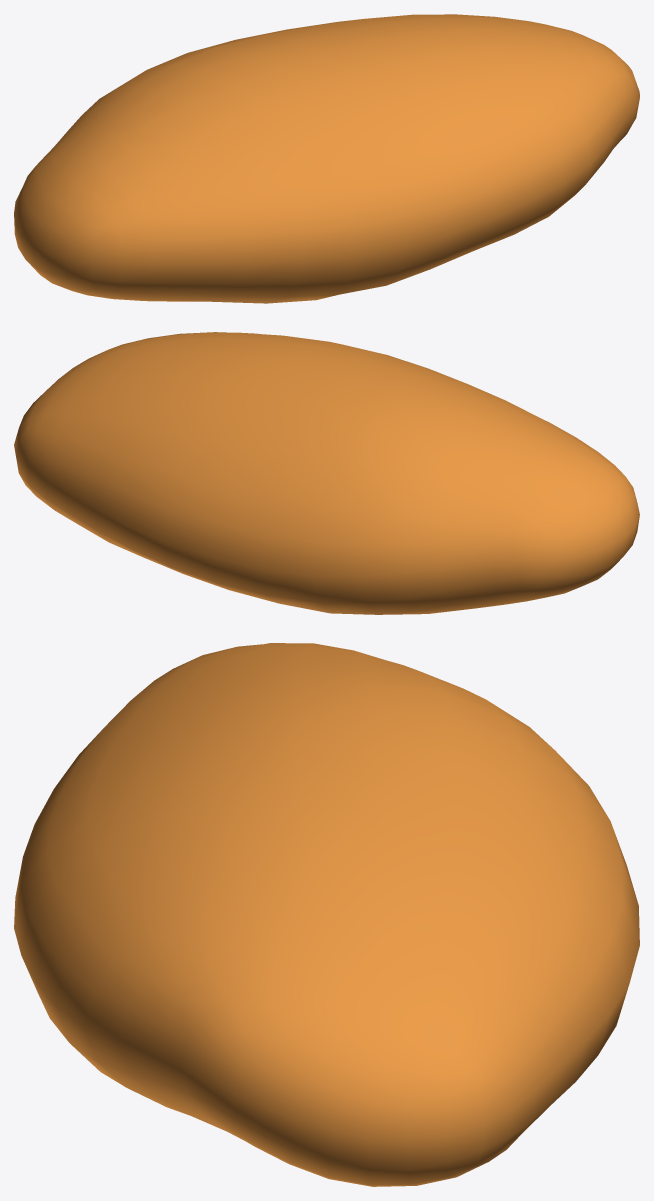
Rendered from omulet.fbx.
3 renders of one model, top to bottom at view 1: azimuth 30°, elevation 25°; view 2: azimuth 150°, elevation 25°; view 3: azimuth 270°, elevation 25°, orthographic. The views are drawn at different scales.
Parts seen in each view (by area): view 1: egg; view 2: egg; view 3: egg.
Boxes of the visible parts, x1,y1,x2,y2 form: egg: (14,14,639,303); egg: (14,332,639,614); egg: (14,643,639,1186).
Bounding box in the file's own units: 77.38 × 23.46 × 46.16.
